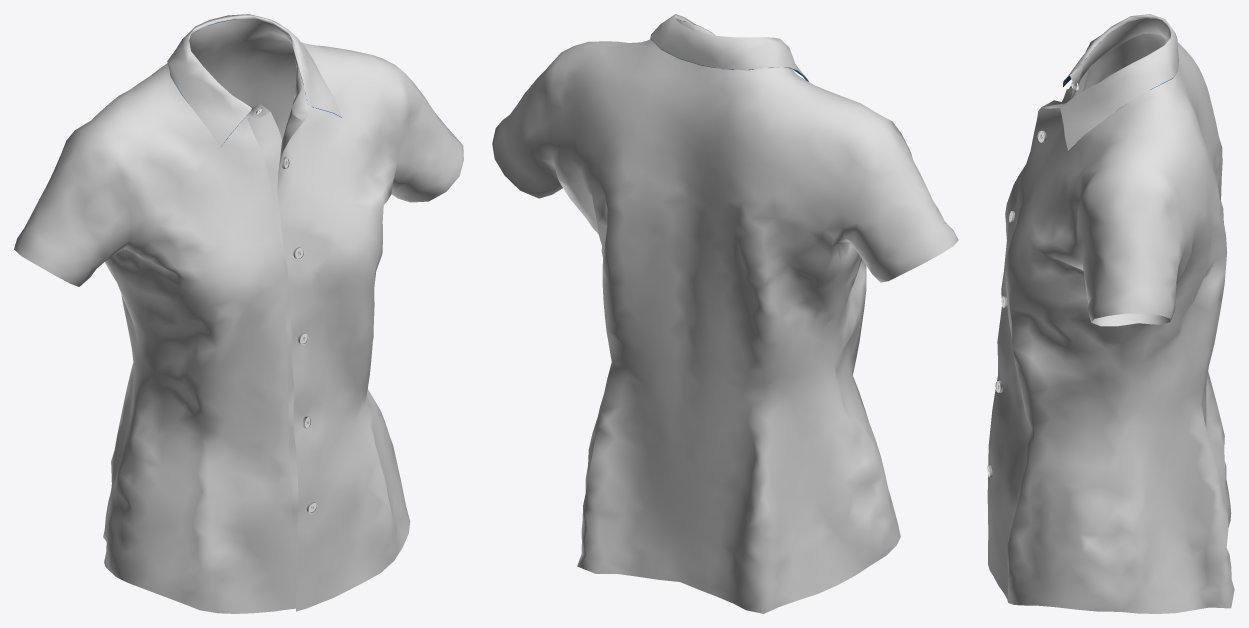
Rendered from femaleshirt2.glb.
The picture shows the model from 3 angles, left to right: view 1: azimuth 30°, elevation 25°; view 2: azimuth 150°, elevation 25°; view 3: azimuth 270°, elevation 25°; orthographic projection. The views are drawn at different scales.
Parts seen in each view (by area): view 1: depankanan, depankiri, belakang, tangankanan, kerah, tangankiri; view 2: belakang, tangankanan, depankanan, tangankiri, kerah; view 3: depankiri, belakang, tangankiri, kerah, tangankanan, depankanan, kancing.
Part boxes in pixels (box(x1,y1,x2,y2)): depankanan: box(93, 83, 298, 613); depankiri: box(277, 54, 410, 611); belakang: box(75, 32, 389, 569); tangankanan: box(14, 130, 131, 286); kerah: box(167, 14, 341, 147); tangankiri: box(382, 58, 463, 202); belakang: box(550, 39, 879, 613); tangankanan: box(841, 119, 958, 282); depankanan: box(788, 68, 900, 564); tangankiri: box(492, 47, 571, 198); kerah: box(650, 14, 808, 81); depankiri: box(987, 100, 1132, 611); belakang: box(1119, 30, 1234, 613); tangankiri: box(1077, 173, 1185, 326); kerah: box(1042, 14, 1178, 151); tangankanan: box(1079, 33, 1166, 92); depankanan: box(1005, 34, 1132, 239); kancing: box(987, 82, 1078, 476).
Bounding box in the file's own units: 2.34 × 2.66 × 1.11.
3 materials, 1 textured.
